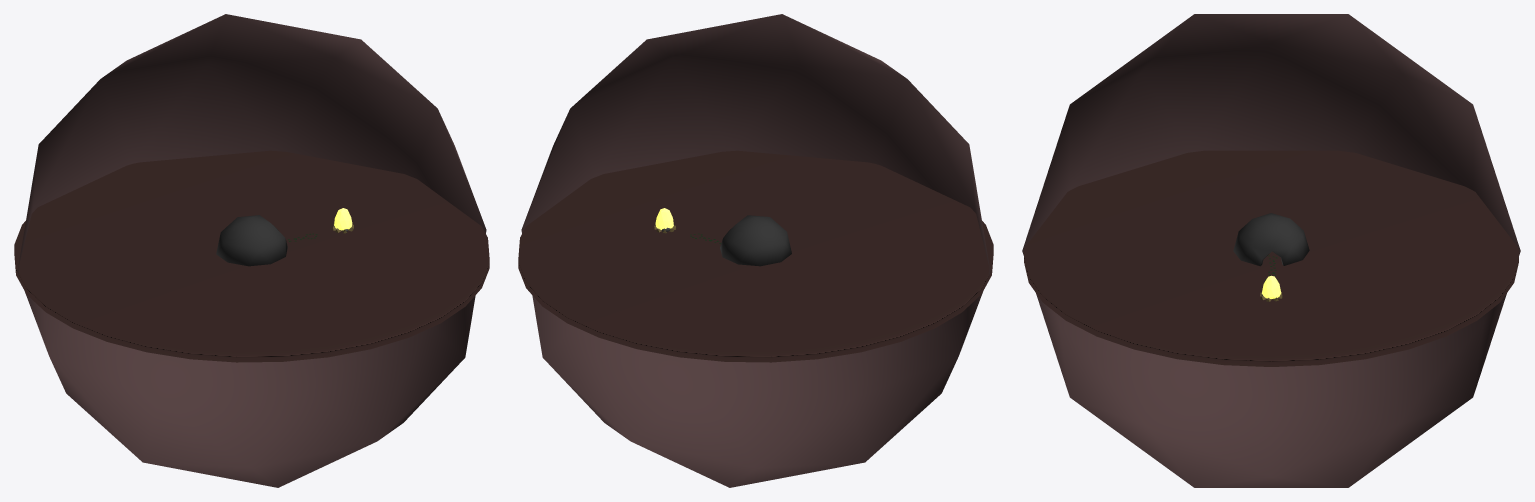
3 views of the same model, side by side, from view 1: azimuth 30°, elevation 25°; view 2: azimuth 150°, elevation 25°; view 3: azimuth 270°, elevation 25° (orthographic). The views are drawn at different scales.
Parts seen in each view (by area): view 1: envirosphere.010, ground.012, lodge.010; view 2: envirosphere.010, ground.012, lodge.010; view 3: envirosphere.010, ground.012, lodge.010.
Part boxes in pixels (x1=…): envirosphere.010: x1=17, y1=14, x2=486, y2=487; ground.012: x1=14, y1=150, x2=489, y2=362; lodge.010: x1=216, y1=215, x2=287, y2=266; envirosphere.010: x1=521, y1=14, x2=990, y2=487; ground.012: x1=518, y1=150, x2=993, y2=362; lodge.010: x1=720, y1=215, x2=791, y2=266; envirosphere.010: x1=1022, y1=14, x2=1520, y2=487; ground.012: x1=1024, y1=150, x2=1518, y2=366; lodge.010: x1=1233, y1=213, x2=1309, y2=266.
Size of the model in its own units: 13.58 by 13.69 by 13.69.
